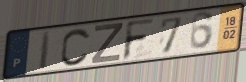6: (188, 10, 216, 55)
7: (159, 15, 184, 55)
C: (59, 27, 92, 67)
F: (121, 16, 157, 62)
I: (37, 29, 54, 72)
Z: (90, 21, 125, 65)
